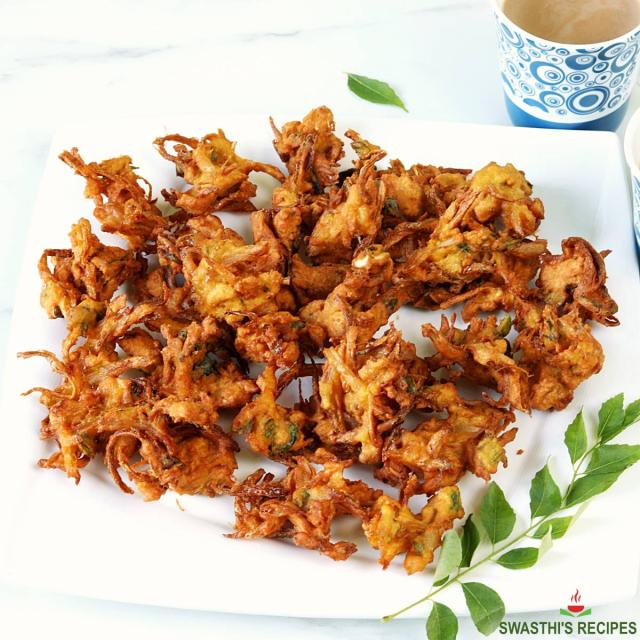BAJI: (8, 111, 625, 588)
